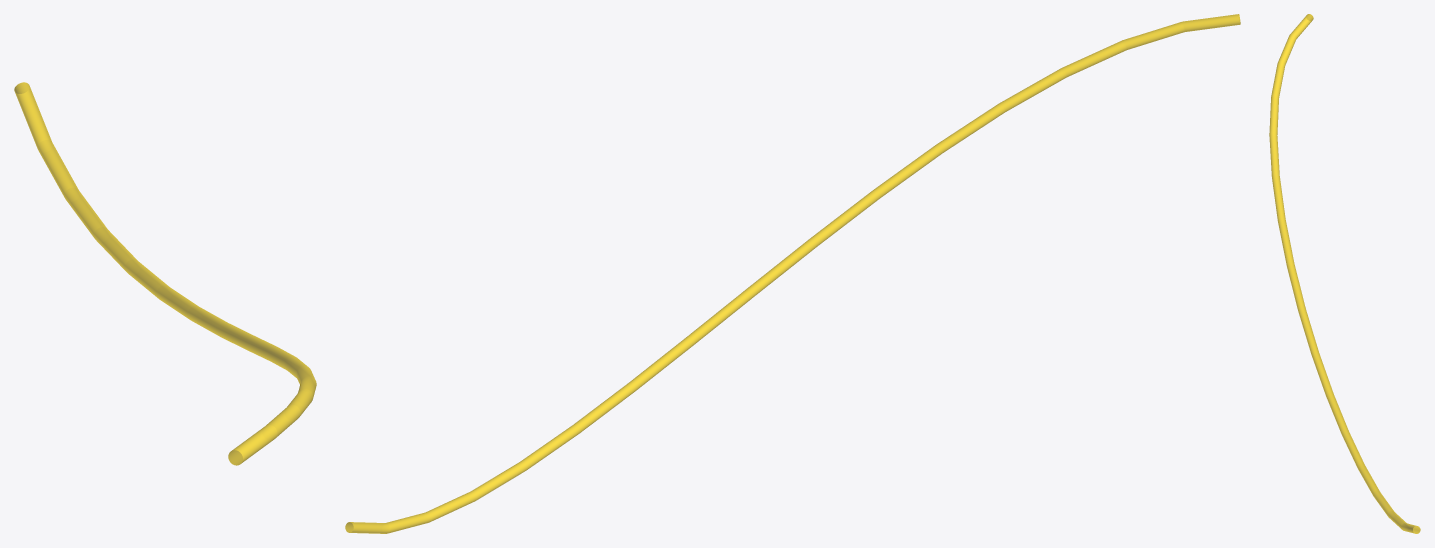
The model's file is Event_17758602_track_90.fbx.
3 views of the same model, side by side, from view 1: azimuth 90°, elevation 25°; view 2: azimuth 210°, elevation 25°; view 3: azimuth 270°, elevation 25° (orthographic). The views are drawn at different scales.
Parts seen in each view (by area): view 1: Model; view 2: Model; view 3: Model.
Part boxes in pixels (x1=…): Model: x1=14, y1=82, x2=316, y2=465; Model: x1=345, y1=14, x2=1240, y2=533; Model: x1=1269, y1=14, x2=1420, y2=533.
Bounding box in the file's own units: 4.1 × 1.04 × 0.7477.
